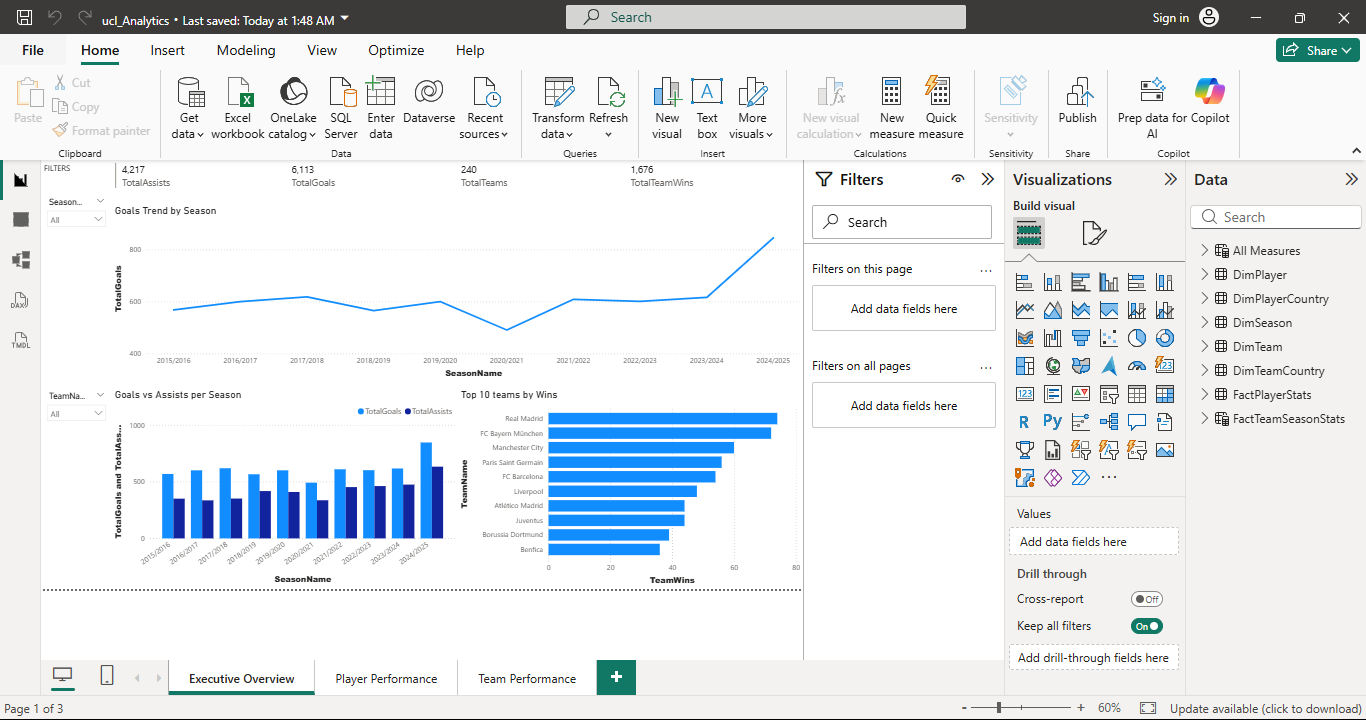

Layout of this report page (visuals, bound fields, positions):
{"tool":"powerbi","page":{"name":"Executive Overview","canvas":[1280,720],"ordinal":0},"visuals":[{"type":"multiRowCard","fields":{"Values":["All Measures.TotalAssists","All Measures.TotalGoals","All Measures.TotalTeams","All Measures.TotalTeamWins"]},"box":[119.3,0,1160.7,73.9],"z":0},{"type":"lineChart","title":"Goals Trend by Season","fields":{"Category":["DimSeason.SeasonName"],"Y":["All Measures.TotalGoals"]},"box":[119.3,73.9,1160.7,297.3],"z":1000},{"type":"clusteredColumnChart","title":"Goals vs Assists per Season","fields":{"Category":["DimSeason.SeasonName"],"Y":["All Measures.TotalGoals","All Measures.TotalAssists"]},"box":[119.3,383,581.2,336],"z":2000},{"type":"clusteredBarChart","title":"Top 10 teams by Wins","fields":{"Category":["DimTeam.TeamName"],"Y":["All Measures.TeamWins"]},"box":[700.5,383,579.5,336],"z":3000},{"type":"slicer","fields":{"Values":["DimSeason.SeasonName"]},"box":[0,57.1,119.3,325.9],"z":4000},{"type":"slicer","fields":{"Values":["DimTeam.TeamName"]},"box":[0,383,119.3,336],"z":5000},{"type":"textbox","box":[0,0,105.8,37],"z":6000}]}

Visuals, with their boxes on the page's 1280x720 design canvas (x1, y1, x2, y2). These are canvas units, not pixel positions in the 1366x720 screenshot, which may show the page scaled, cropped or inside an application window:
multiRowCard - All Measures.TotalAssists x All Measures.TotalGoals: l=119, t=0, r=1280, b=74
"Goals Trend by Season" lineChart: l=119, t=74, r=1280, b=371
"Goals vs Assists per Season" clusteredColumnChart: l=119, t=383, r=700, b=719
"Top 10 teams by Wins" clusteredBarChart: l=700, t=383, r=1280, b=719
slicer - DimSeason.SeasonName: l=0, t=57, r=119, b=383
slicer - DimTeam.TeamName: l=0, t=383, r=119, b=719
textbox: l=0, t=0, r=106, b=37
